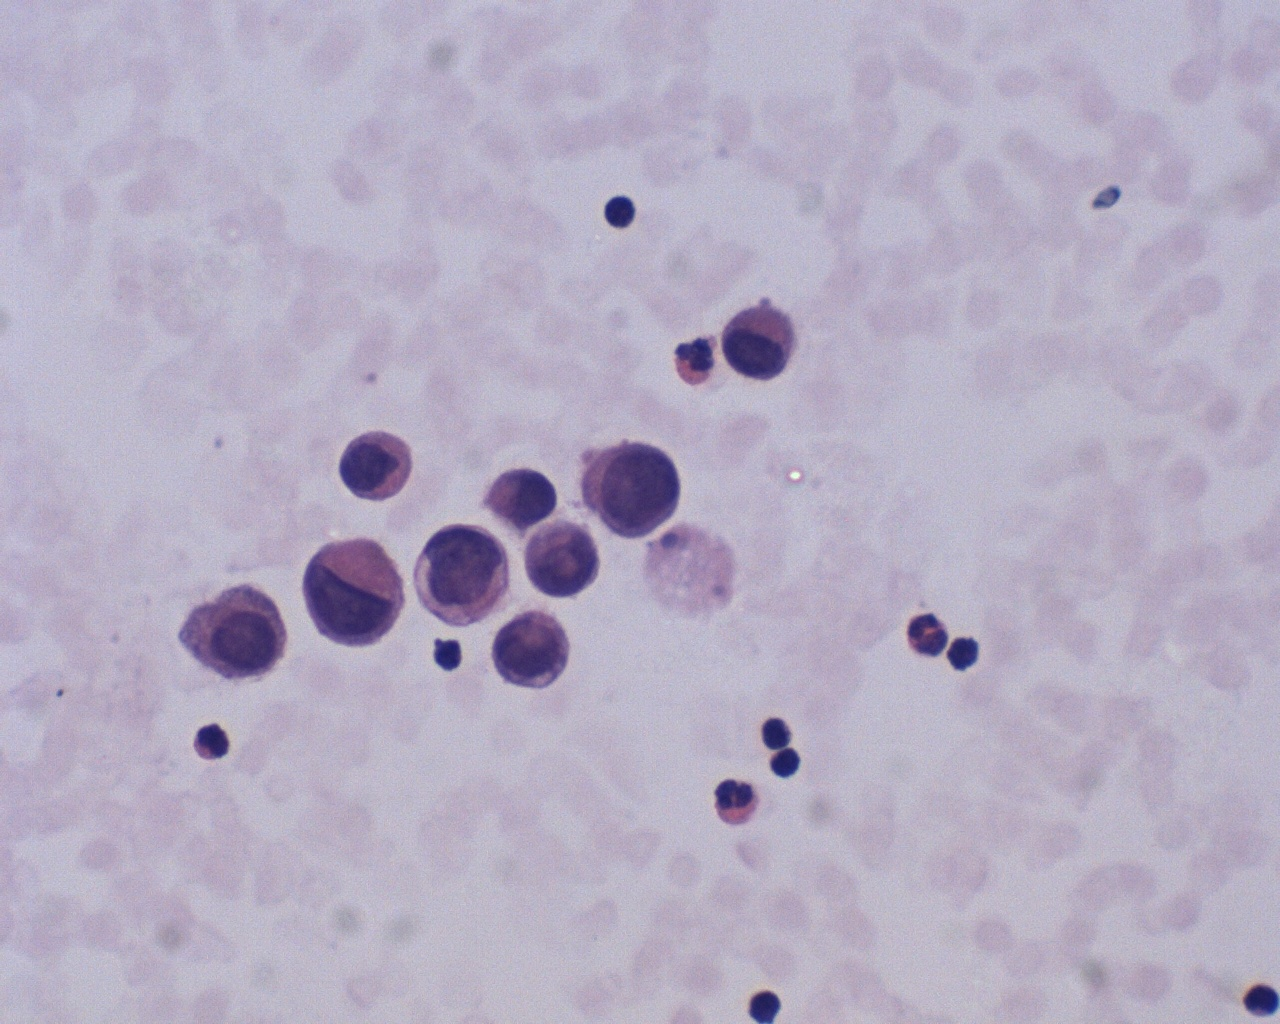ab: (295, 533, 408, 653), (567, 428, 689, 539), (172, 575, 293, 685), (406, 521, 517, 636), (485, 609, 587, 689), (713, 300, 806, 385), (523, 516, 609, 600), (335, 426, 420, 506)
lymph: (754, 707, 799, 755), (601, 185, 644, 235)
neutro: (703, 770, 761, 834), (664, 332, 721, 392), (903, 606, 951, 659)
